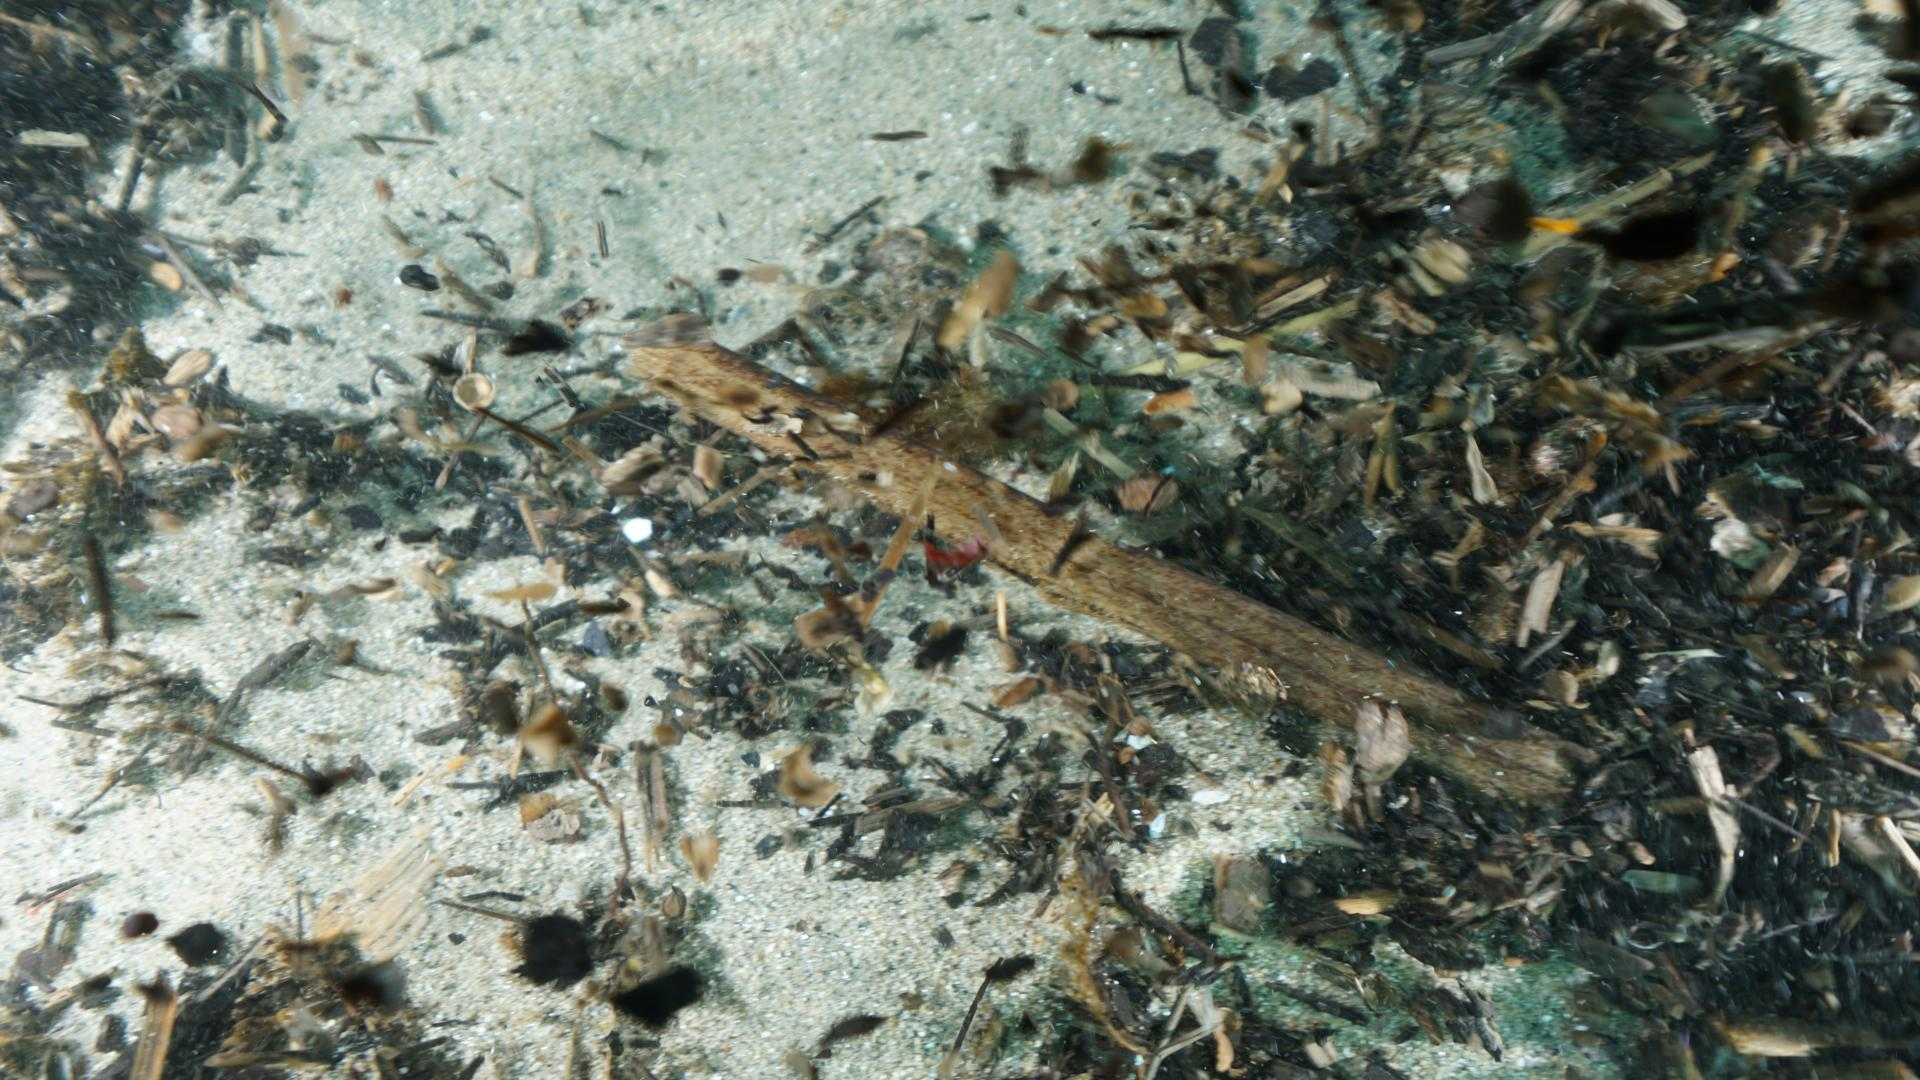wood: (616, 336, 1604, 810)
